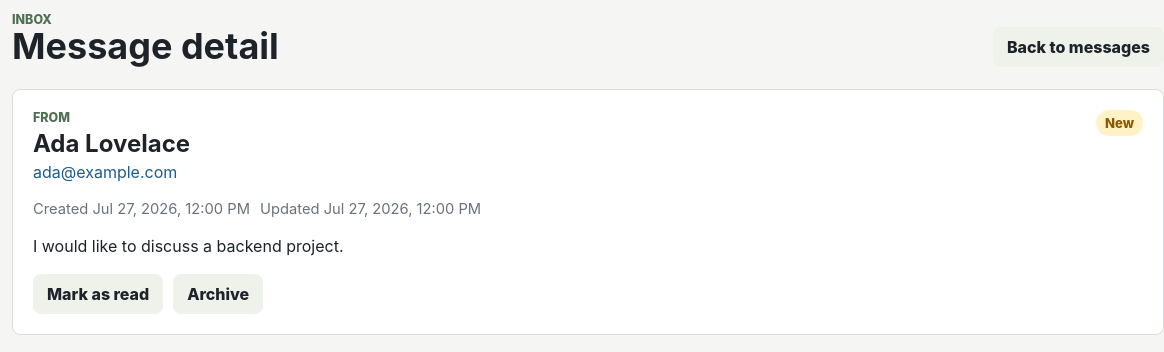
Test: contact message management › loads message details and changes the status
The image size is (1164, 352).
Expected: the text "I would like to discuss a backend project." is shown, 33,236 -> 344,256
Click the button "Mark as read" at x=98, y=294, box 33,274 -> 163,314
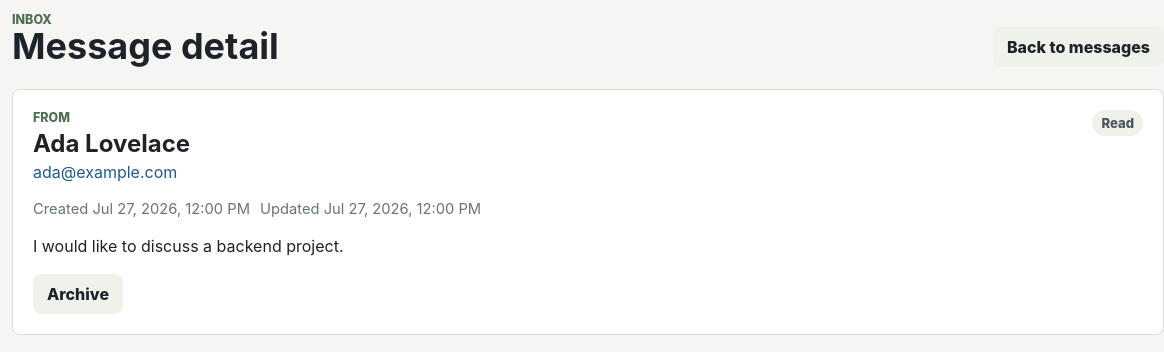
Expected: the text "Read" is shown, 1092,110 -> 1143,136
